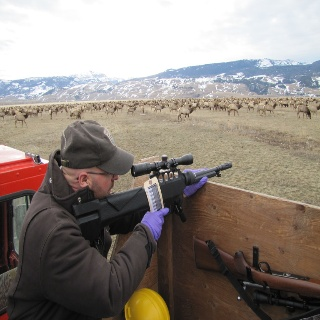rifle: (71, 152, 233, 236)
